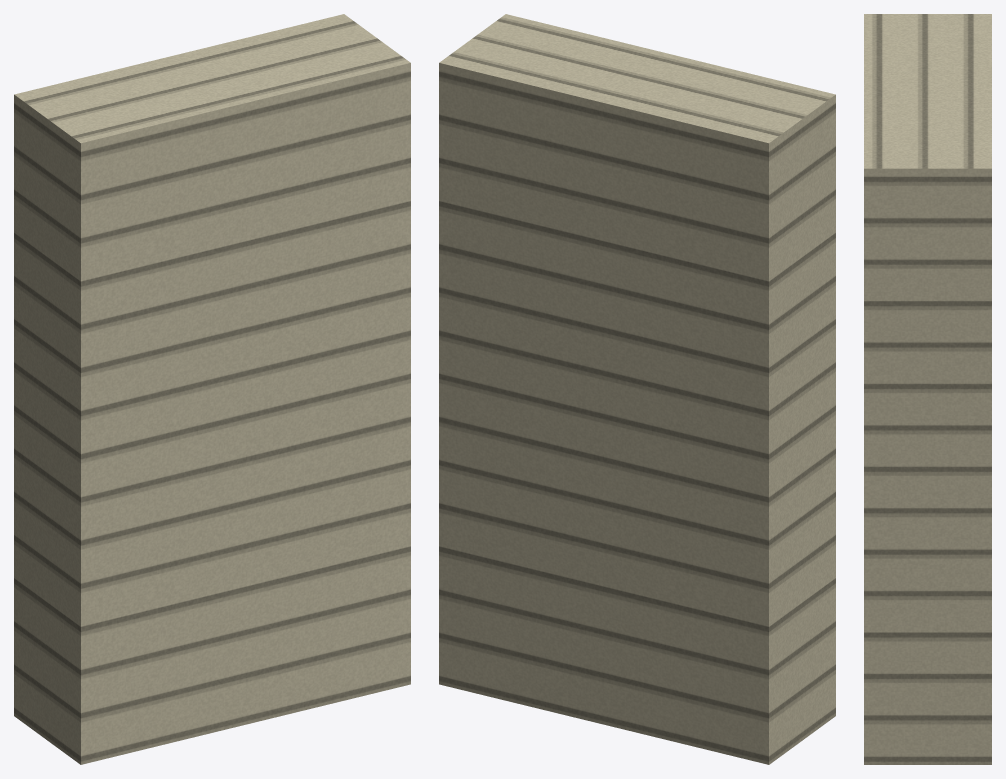
The model's file is canning_preserve_shelving.glb.
3 renders of one model, left to right at view 1: azimuth 30°, elevation 25°; view 2: azimuth 150°, elevation 25°; view 3: azimuth 270°, elevation 25°, orthographic. The views are drawn at different scales.
Parts seen in each view (by area): view 1: canning_preserve_shelving-col; view 2: canning_preserve_shelving-col; view 3: canning_preserve_shelving-col.
Part boxes in pixels (box(x1,y1,x2,y2)): canning_preserve_shelving-col: box(14, 14, 410, 764); canning_preserve_shelving-col: box(439, 14, 835, 764); canning_preserve_shelving-col: box(864, 14, 991, 764).
Bounding box in the file's own units: 1 × 1.8 × 0.35.
Materials: 1 (1 with a texture image).
